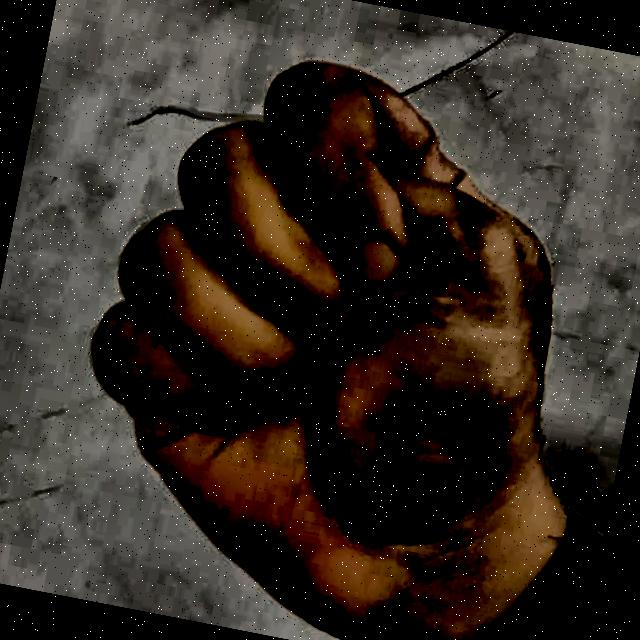To: (19, 1, 627, 640)
